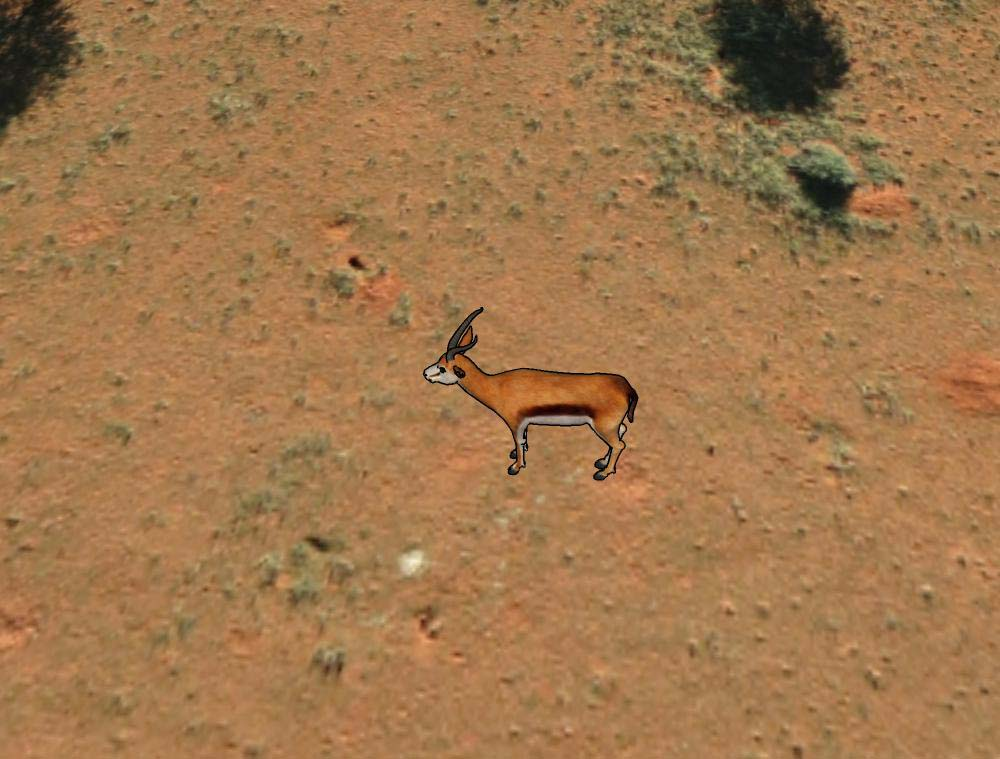springbok: (418, 304, 640, 490)
